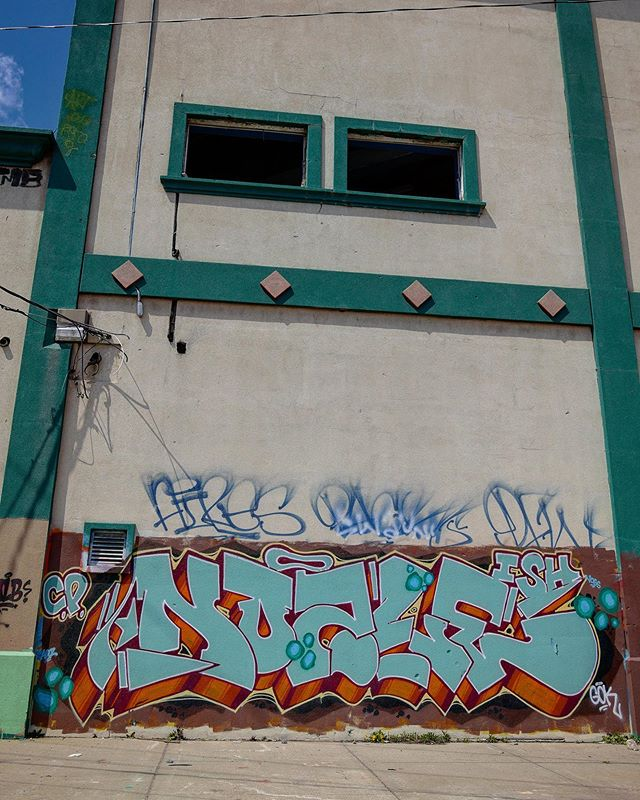building: (7, 1, 640, 730)
graffiti: (42, 514, 620, 735), (129, 458, 298, 548), (306, 461, 475, 551), (459, 461, 628, 551)
